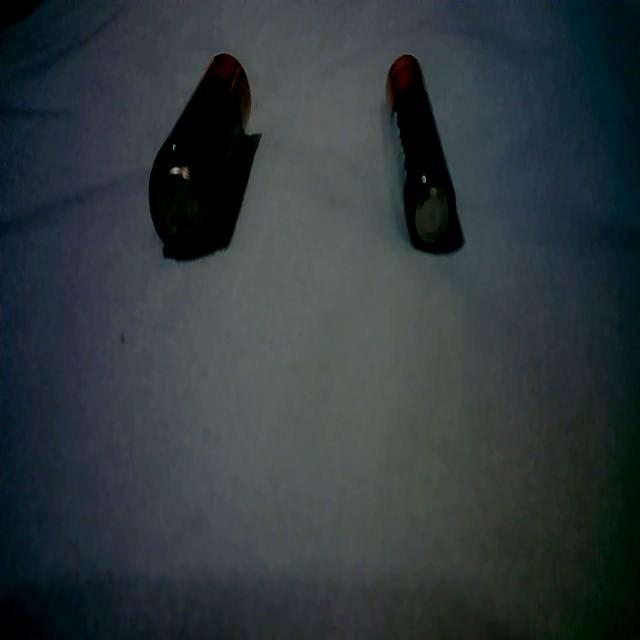AA: (146, 42, 257, 262)
AAA: (379, 46, 461, 260)
